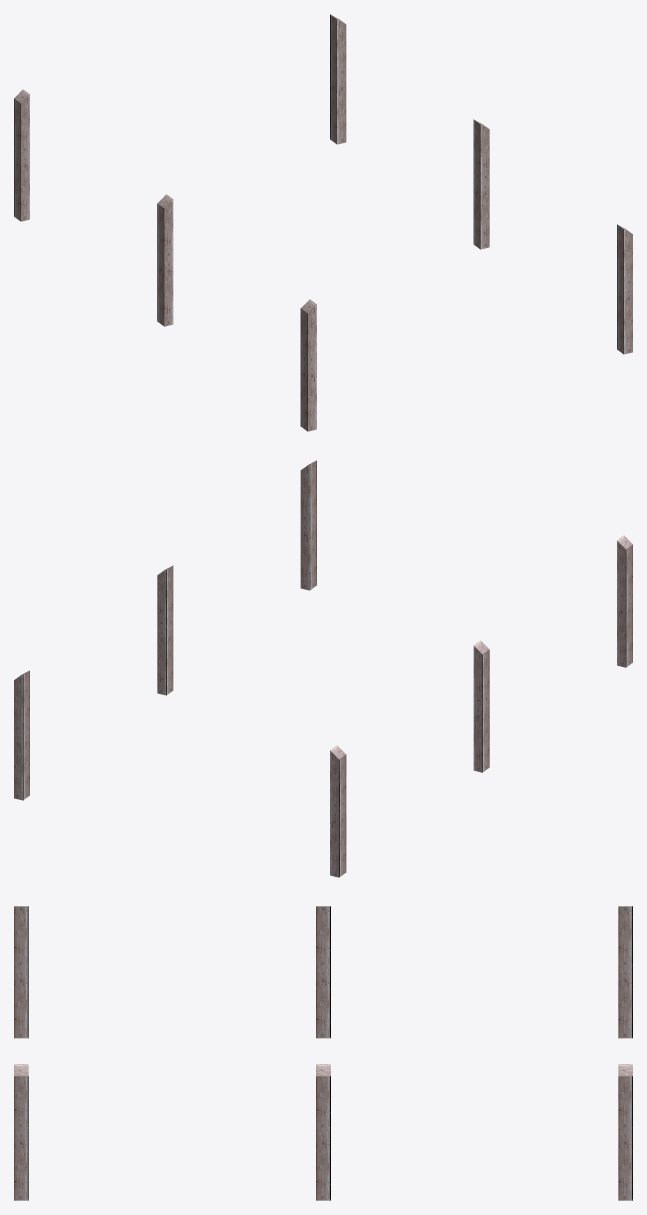
3 views of the same model, one above another, from view 1: azimuth 30°, elevation 25°; view 2: azimuth 150°, elevation 25°; view 3: azimuth 270°, elevation 25° (orthographic). The views are drawn at different scales.
Visible parts, largest first — view 1: Plane003_woodboard_0; view 2: Plane003_woodboard_0; view 3: Plane003_woodboard_0.
Part boxes in pixels (bbox=[...]): Plane003_woodboard_0: bbox=[14, 14, 632, 431]; Plane003_woodboard_0: bbox=[14, 460, 632, 877]; Plane003_woodboard_0: bbox=[14, 906, 632, 1200].
Bounding box in the file's own units: 14.4 × 5.3 × 22.54.
Materials: 1 (1 with a texture image).
